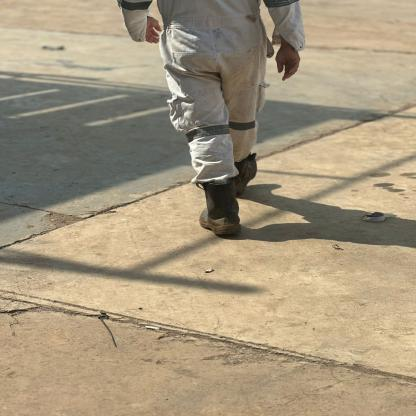bota: (195, 177, 247, 239), (230, 151, 262, 194)
